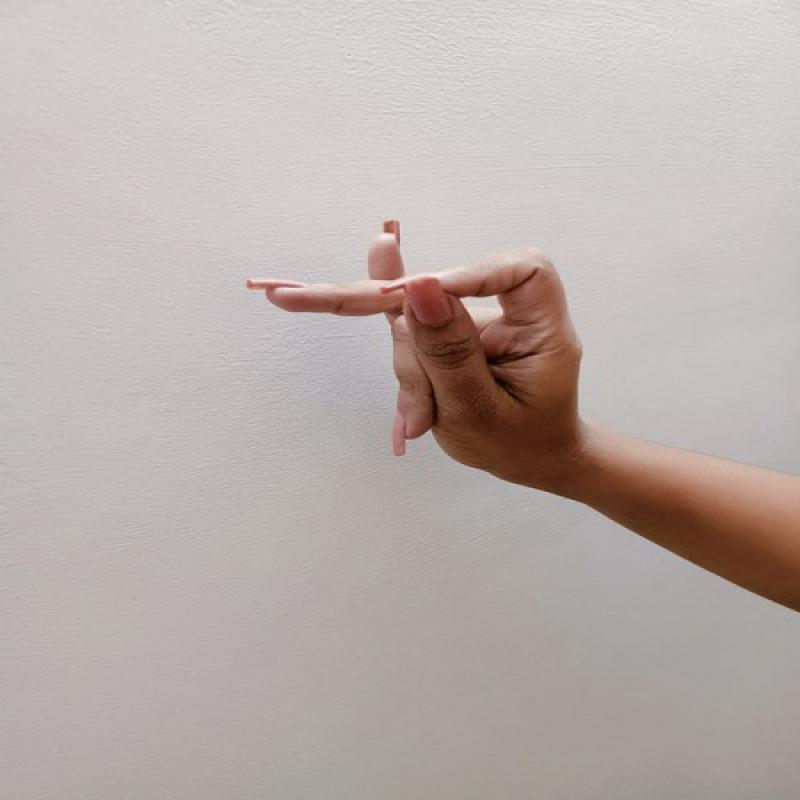Katakam: (233, 207, 610, 494)
